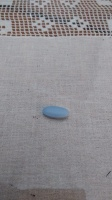Apranax: (42, 105, 70, 120)
